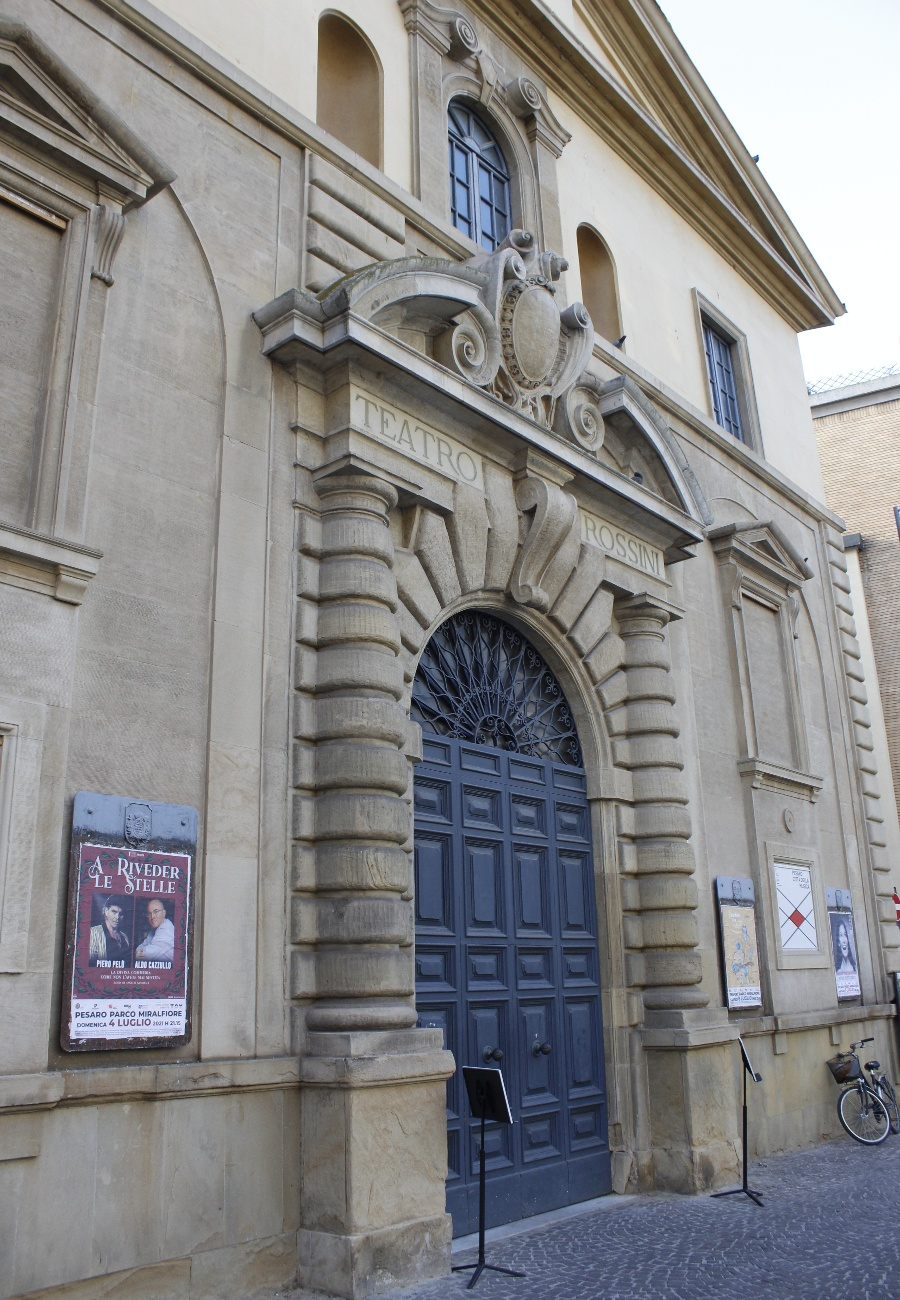Teatro Rossini: (1, 1, 892, 1289)
